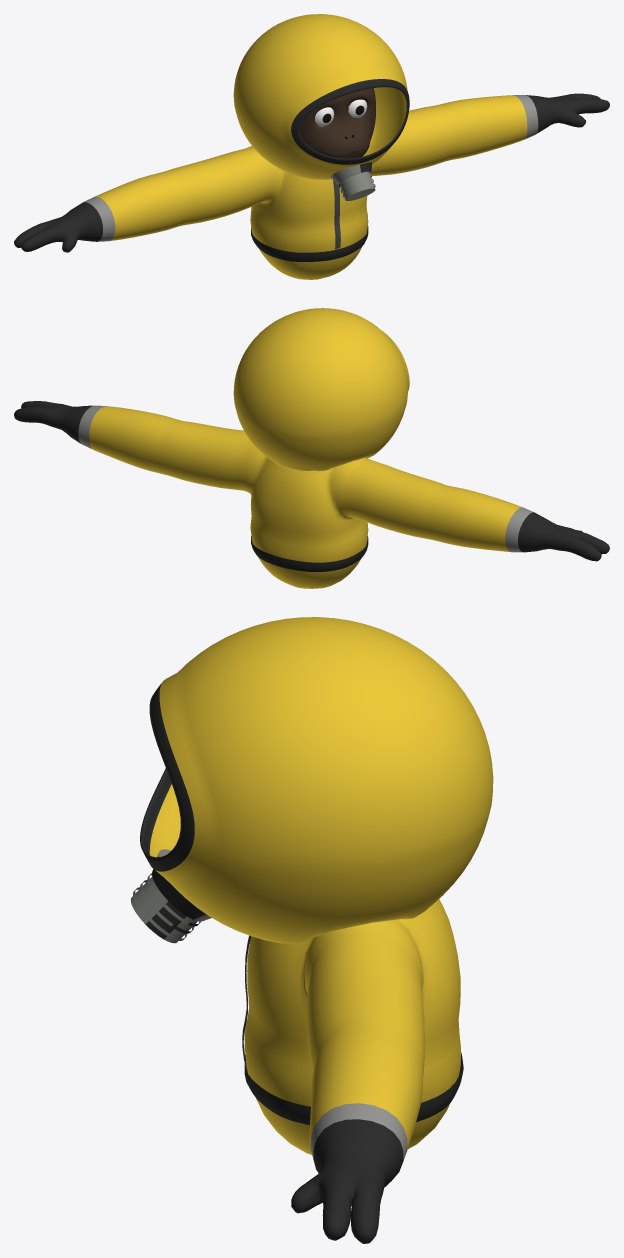
The model's file is HazmatSuit_BrownHead.fbx.
3 views of the same model, one above another, from view 1: azimuth 30°, elevation 25°; view 2: azimuth 150°, elevation 25°; view 3: azimuth 270°, elevation 25° (orthographic). The views are drawn at different scales.
Parts seen in each view (by area): view 1: Hazmat_Suit, Hazmat_Hood, Retopo_Cube.001, Hazmat_Respirator, Hazmat_Belt, Cube.001, Hazmat_Zipper; view 2: Hazmat_Suit, Hazmat_Hood, Hazmat_Belt; view 3: Hazmat_Hood, Hazmat_Suit, Hazmat_Respirator, Hazmat_Belt.
Part boxes in pixels (x1,y1,x2,y2): Hazmat_Suit: (14,93,609,279); Hazmat_Hood: (233,14,409,179); Retopo_Cube.001: (300,88,375,158); Hazmat_Respirator: (331,162,375,200); Hazmat_Belt: (251,226,368,261); Cube.001: (315,99,367,126); Hazmat_Zipper: (333,180,340,248); Hazmat_Suit: (14,401,609,588); Hazmat_Hood: (233,308,409,471); Hazmat_Belt: (251,536,368,571); Hazmat_Hood: (140,617,493,943); Hazmat_Suit: (244,899,460,1243); Hazmat_Respirator: (130,849,211,943); Hazmat_Belt: (244,1052,463,1124).
Bounding box in the file's own units: 463 × 195 × 124.
